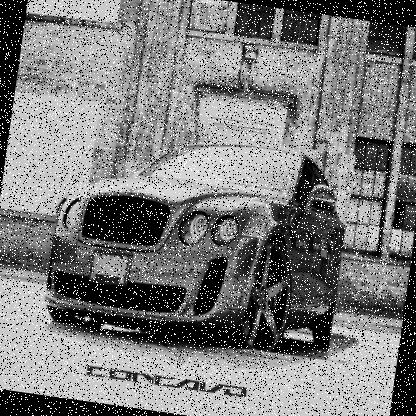Car: (40, 115, 356, 361)
